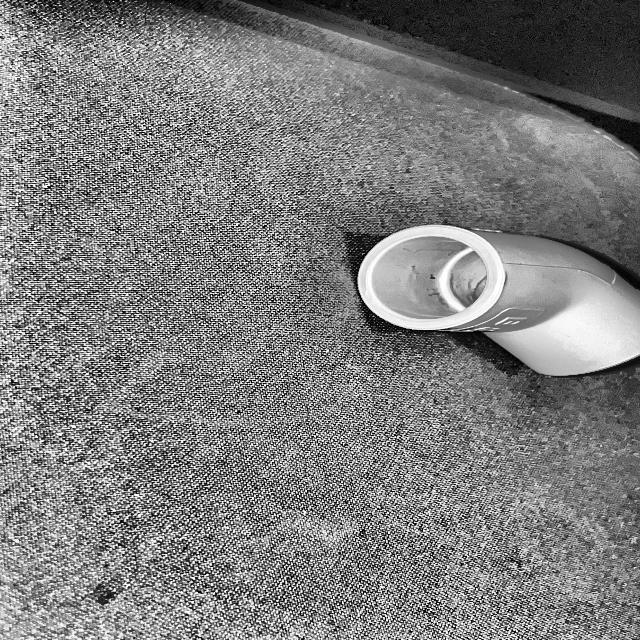ELBOW45: (358, 225, 640, 378)
